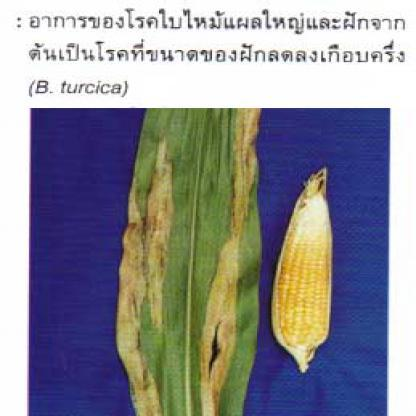Corn leaf blight: (122, 108, 267, 415)
